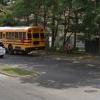Bus: (1, 20, 48, 55)
